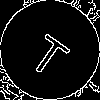T: (25, 25, 77, 80)
